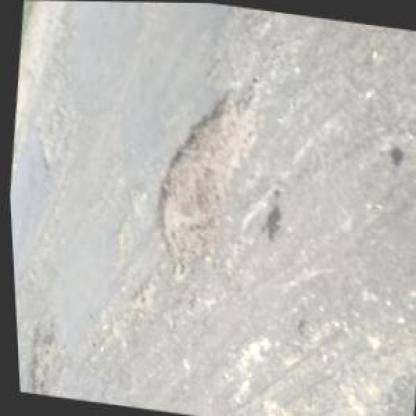pothole: (138, 67, 270, 280), (18, 314, 64, 396), (32, 100, 66, 172)
